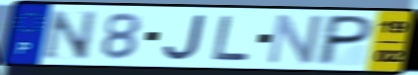8: (101, 11, 143, 61)
J: (161, 13, 208, 62)
L: (210, 14, 253, 62)
N: (264, 12, 326, 66), (42, 8, 99, 61)
P: (313, 13, 378, 67)
